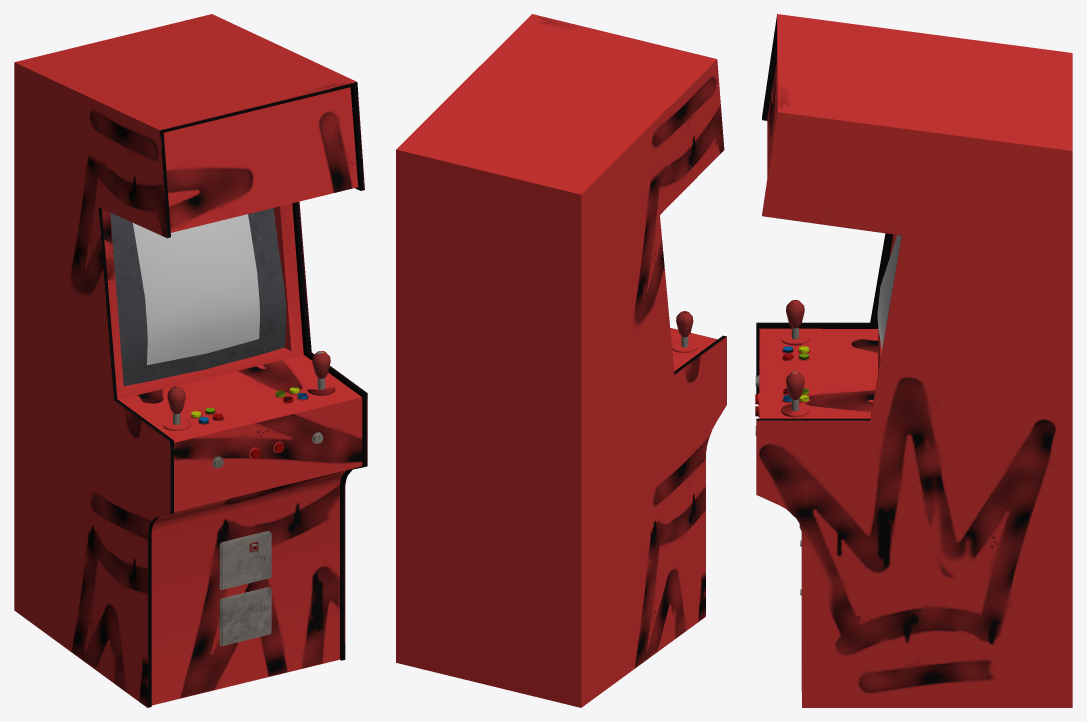
Rendered from arcade_machine.fbx.
3 renders of one model, left to right at view 1: azimuth 30°, elevation 25°; view 2: azimuth 150°, elevation 25°; view 3: azimuth 270°, elevation 25°, orthographic. The views are drawn at different scales.
Parts seen in each view (by area): view 1: arcade_machine; view 2: arcade_machine; view 3: arcade_machine.
Boxes of the visible parts, <box> form: arcade_machine: <box>14,14,367,707</box>; arcade_machine: <box>396,14,726,707</box>; arcade_machine: <box>755,14,1072,707</box>.
Bounding box in the file's own units: 148 × 420 × 202.
